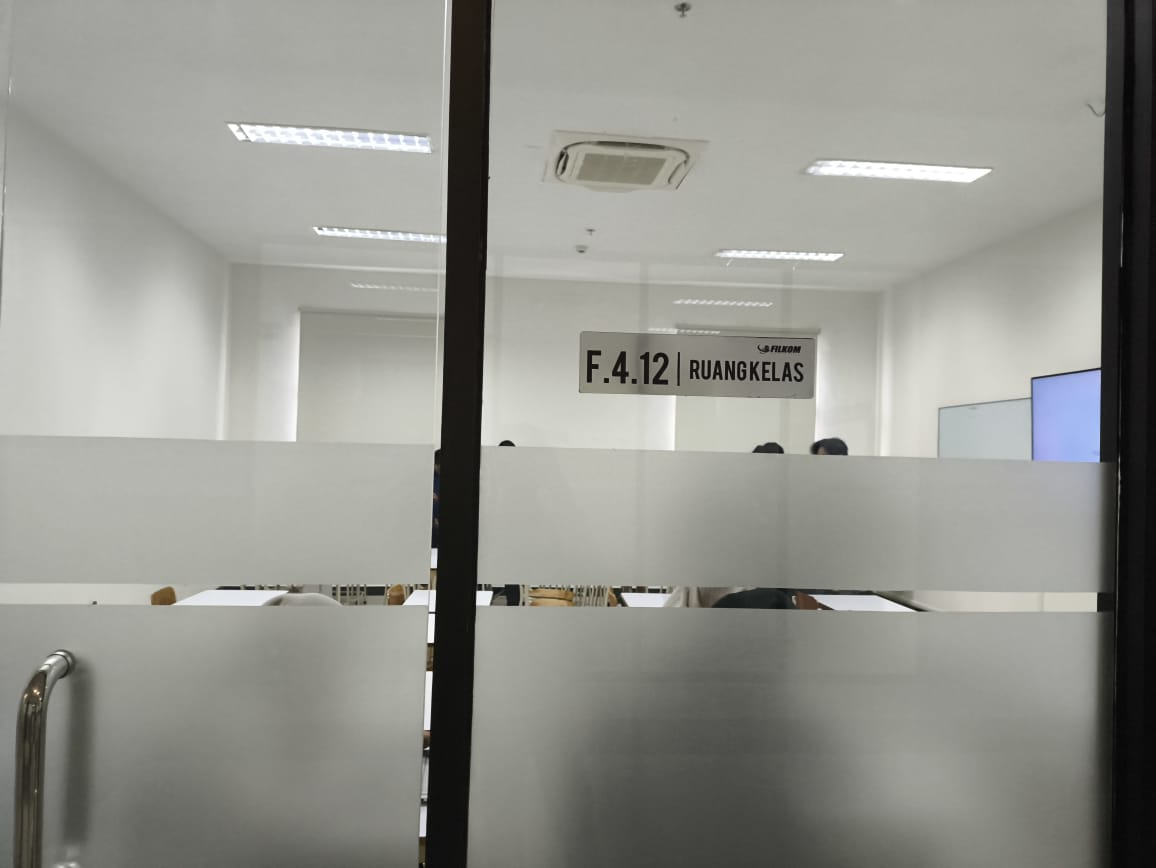ruangan: (574, 327, 825, 404)
